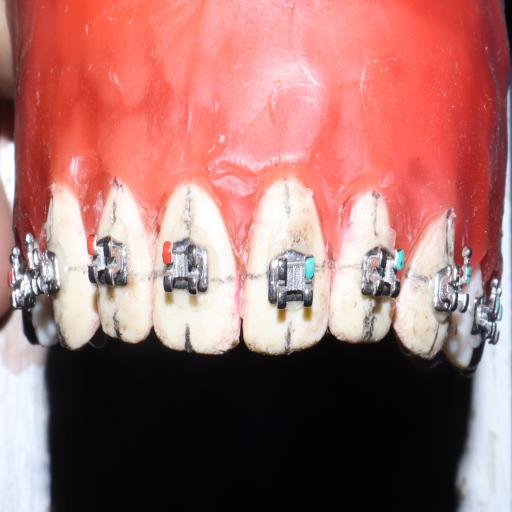incorrect_brace: (263, 243, 318, 320), (160, 235, 214, 306)
